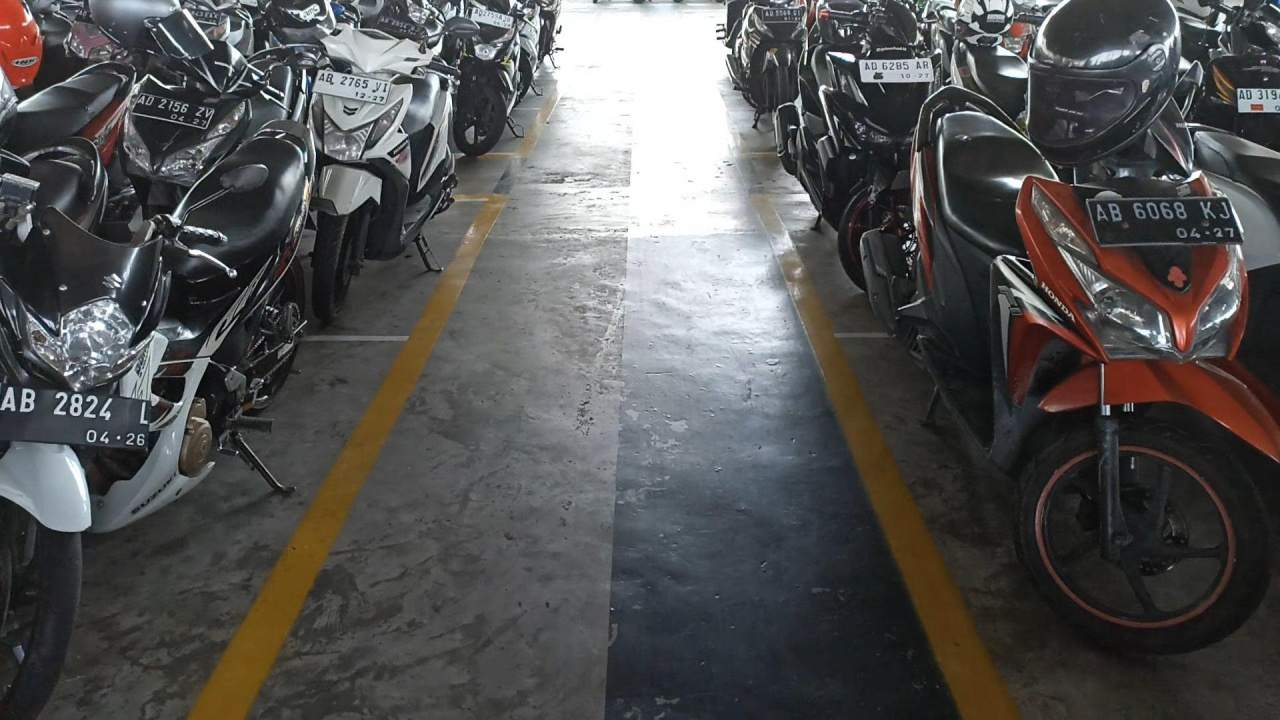plate: (0, 384, 152, 450), (1086, 197, 1244, 248), (131, 93, 214, 128), (312, 69, 392, 105), (859, 58, 934, 82)
